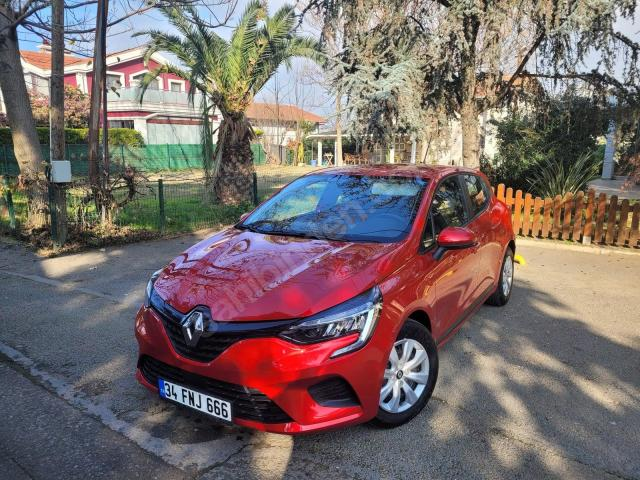plaka: (159, 380, 232, 421)
